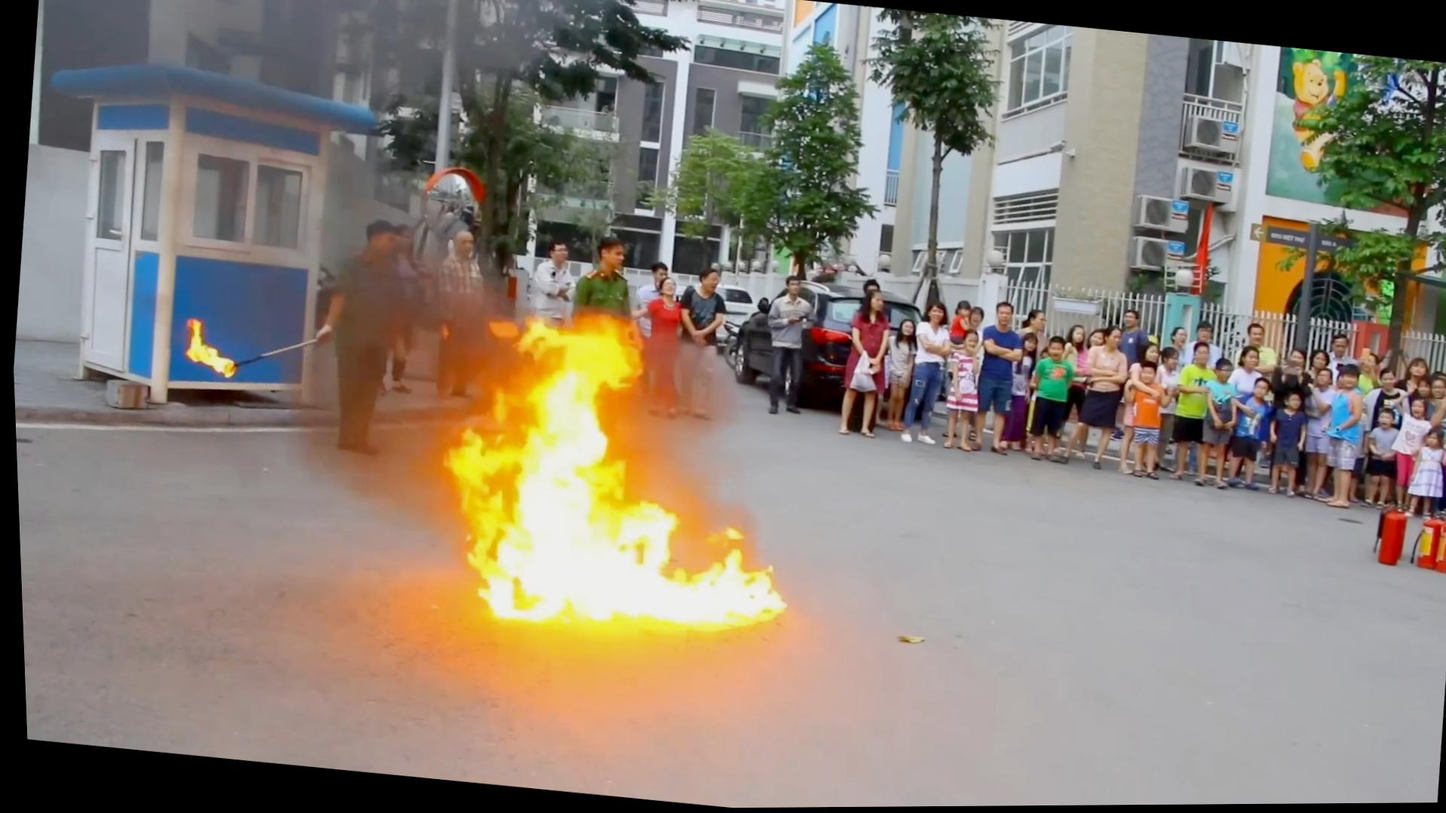FireExtinguisher: (1364, 501, 1408, 575), (1402, 513, 1446, 584)
not: (395, 286, 812, 659), (634, 267, 697, 415), (159, 295, 250, 397), (841, 275, 895, 408), (415, 156, 494, 217), (1286, 82, 1343, 152), (1122, 361, 1170, 443), (1183, 201, 1220, 303), (1340, 310, 1396, 368), (948, 292, 975, 352), (569, 266, 623, 294)
